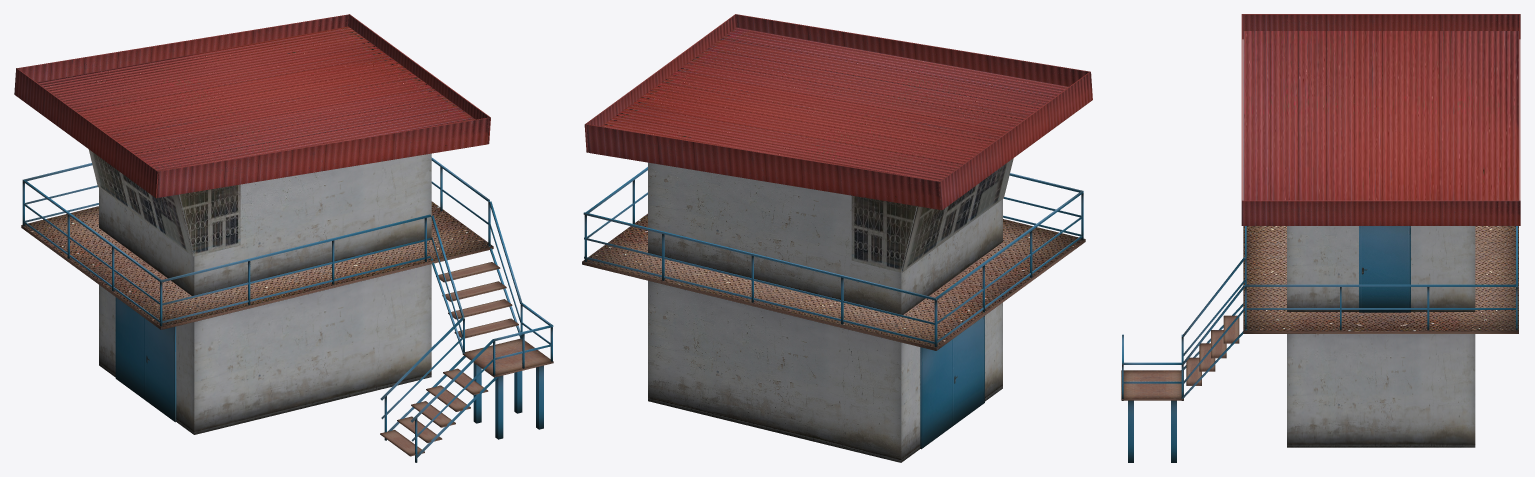
Rendered from building.fbx.
3 views of the same model, side by side, from view 1: azimuth 30°, elevation 25°; view 2: azimuth 150°, elevation 25°; view 3: azimuth 270°, elevation 25° (orthographic). The views are drawn at different scales.
Visible parts, largest first — view 1: Box001; view 2: Box001; view 3: Box001.
Part boxes in pixels (x1,y1,x2,y2): Box001: (14, 14, 553, 462); Box001: (582, 14, 1092, 462); Box001: (1121, 14, 1520, 462).
Size of the model in its own units: 6.57 by 5.47 by 6.81.
Materials: 1 (1 with a texture image).
